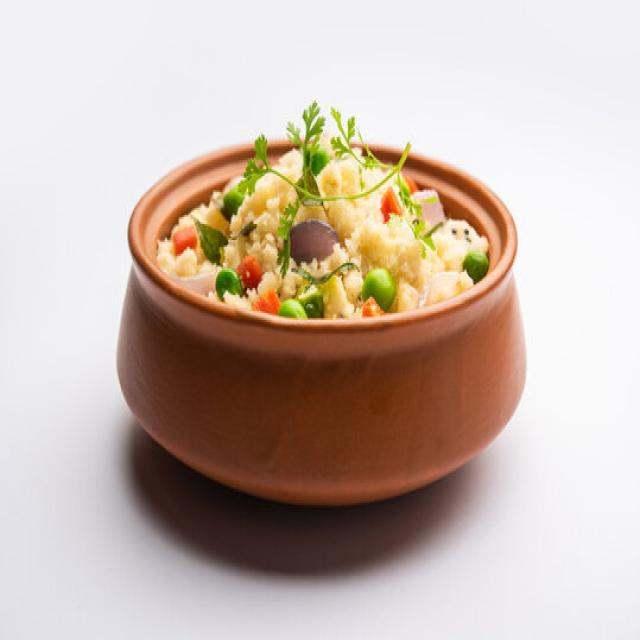UPMA: (156, 128, 489, 322)
